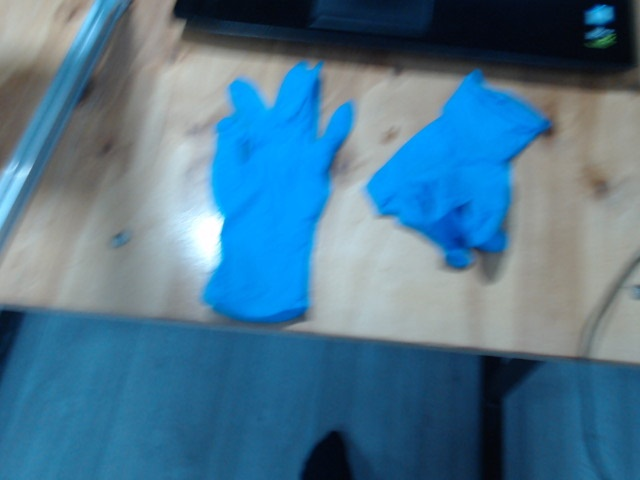medical_glove: (207, 60, 355, 324), (368, 70, 550, 267)
